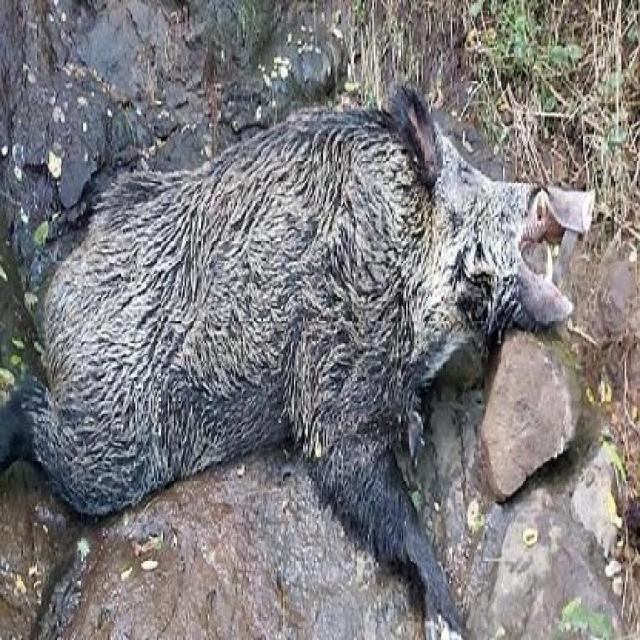wildboar: (0, 78, 606, 640)
